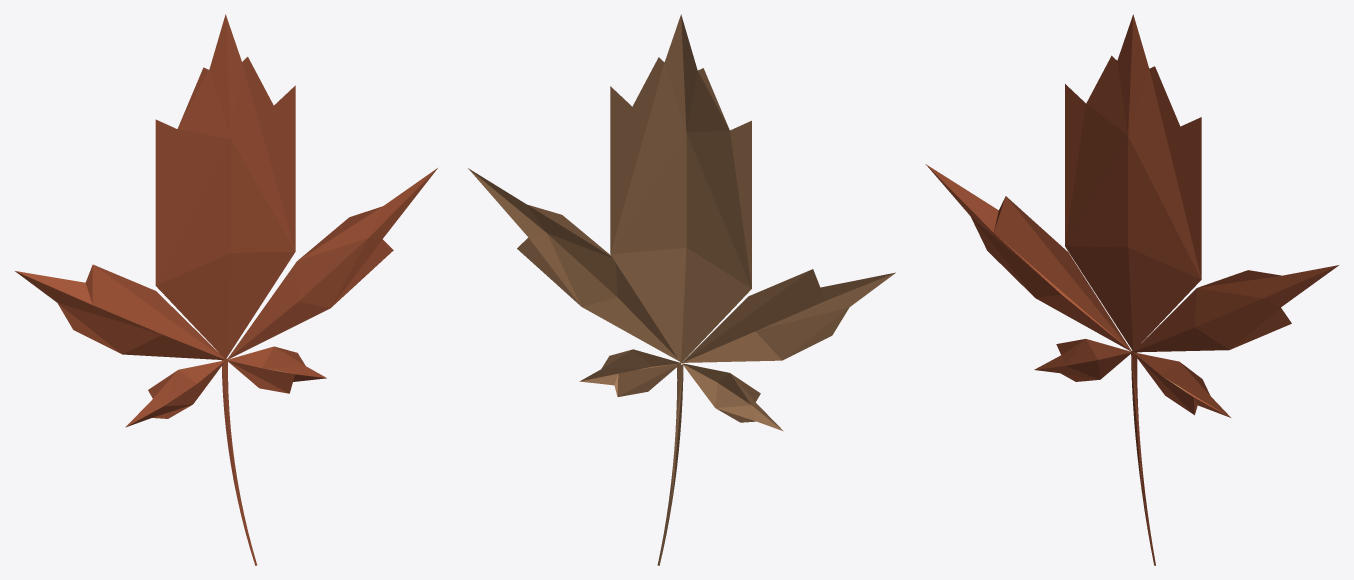
Rendered from maple-leaf.glb.
3 renders of one model, left to right at view 1: azimuth 30°, elevation 25°; view 2: azimuth 150°, elevation 25°; view 3: azimuth 330°, elevation 25°, orthographic. The views are drawn at different scales.
Parts seen in each view (by area): view 1: Maple leaf — diagram-derived illustrative model; view 2: Maple leaf — diagram-derived illustrative model; view 3: Maple leaf — diagram-derived illustrative model.
Part boxes in pixels (box(x1,y1,x2,y2)): Maple leaf — diagram-derived illustrative model: box(15, 14, 437, 565); Maple leaf — diagram-derived illustrative model: box(468, 14, 895, 565); Maple leaf — diagram-derived illustrative model: box(925, 14, 1338, 565).
Size of the model in its own units: 0.88 by 1.1 by 0.0246.
